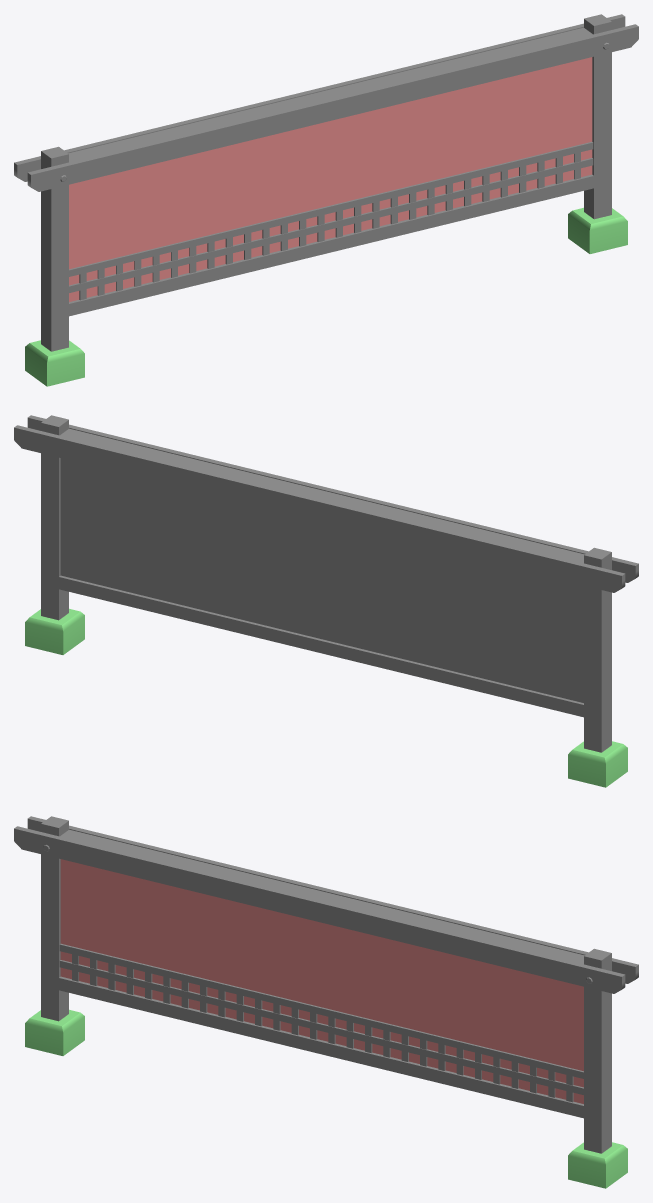
Rendered from SM_ENV_LKNVLD_Kurama_Statue_Plate.gltf.
3 views of the same model, one above another, from view 1: azimuth 30°, elevation 25°; view 2: azimuth 150°, elevation 25°; view 3: azimuth 330°, elevation 25° (orthographic).
Parts seen in each view (by area): view 1: SM_ENV_LKNVLD_Kurama_Statue_Plate; view 2: SM_ENV_LKNVLD_Kurama_Statue_Plate; view 3: SM_ENV_LKNVLD_Kurama_Statue_Plate.
Part boxes in pixels (x1,y1,x2,y2): SM_ENV_LKNVLD_Kurama_Statue_Plate: (14, 14, 638, 386); SM_ENV_LKNVLD_Kurama_Statue_Plate: (14, 415, 638, 787); SM_ENV_LKNVLD_Kurama_Statue_Plate: (14, 816, 638, 1188).
Size of the model in its own units: 2.46 by 0.856 by 0.1541.
